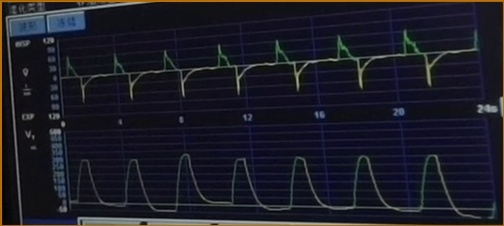Accumulation Flow: (62, 31, 479, 104)
Volume: (71, 147, 491, 218)
